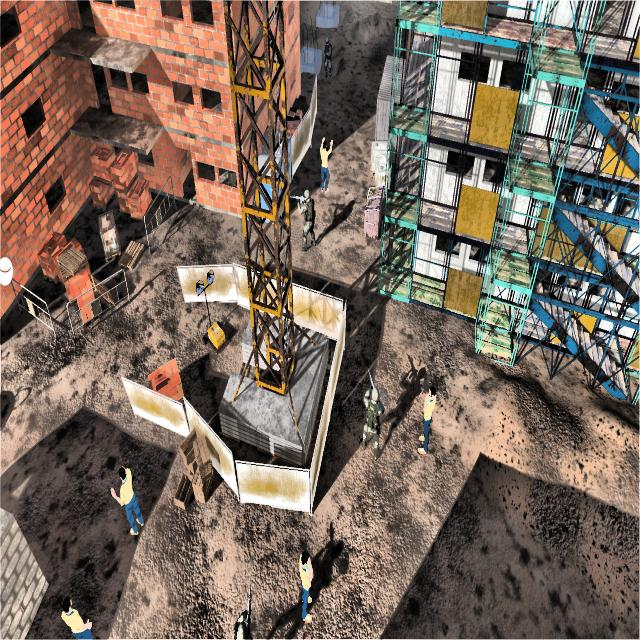bad: (358, 372, 386, 461), (295, 179, 321, 253), (318, 31, 337, 85), (232, 603, 259, 640)
good: (104, 446, 150, 547), (283, 538, 322, 630), (411, 372, 446, 452), (58, 582, 97, 640), (314, 126, 336, 198)
